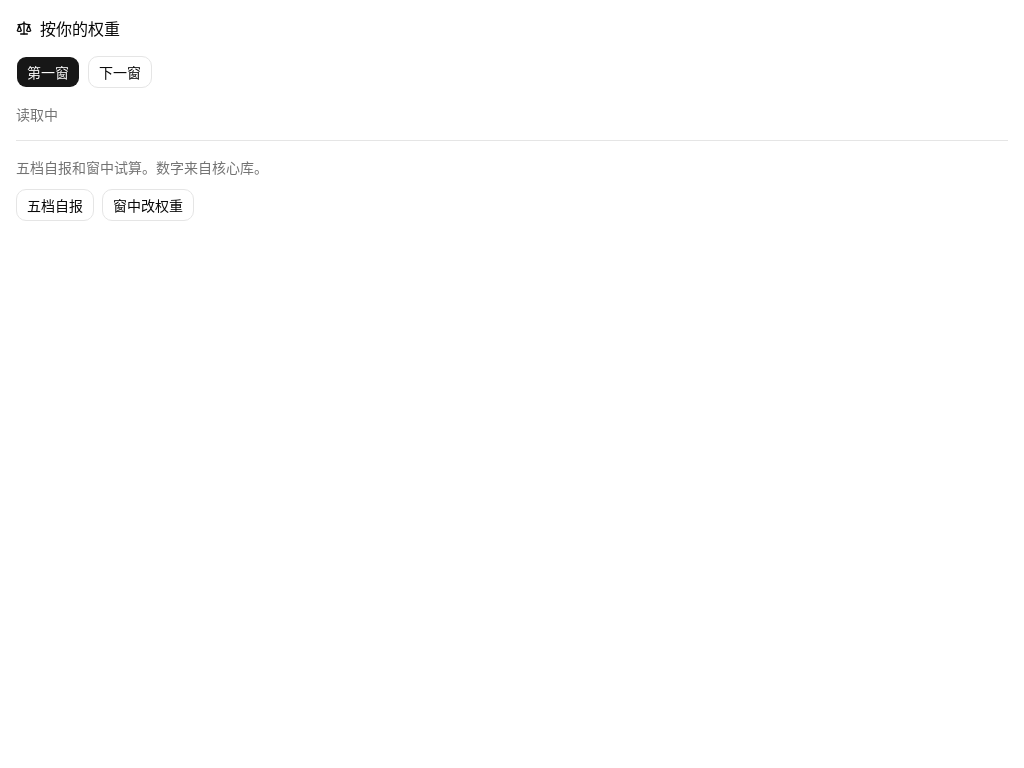
a contradiction is the shell's flag and question list
The image size is (1024, 768).
Click the button "五档自报" at (55, 205), box [16,189,94,221]
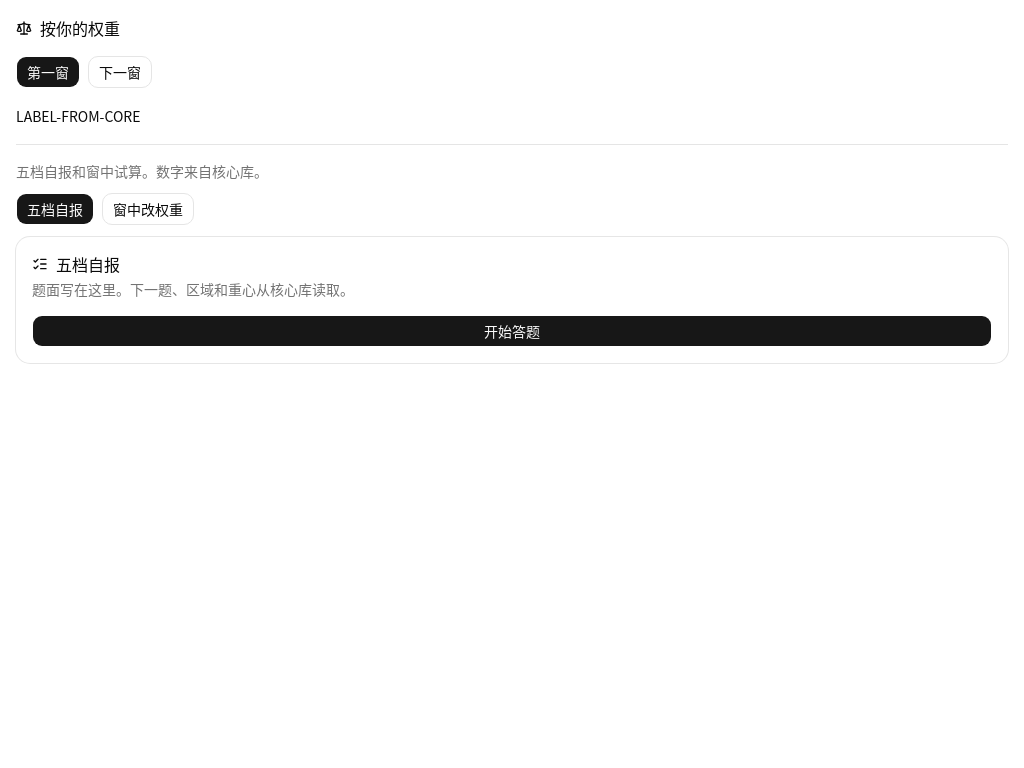
Click the button "开始答题" at (512, 331), box [32,315,992,347]
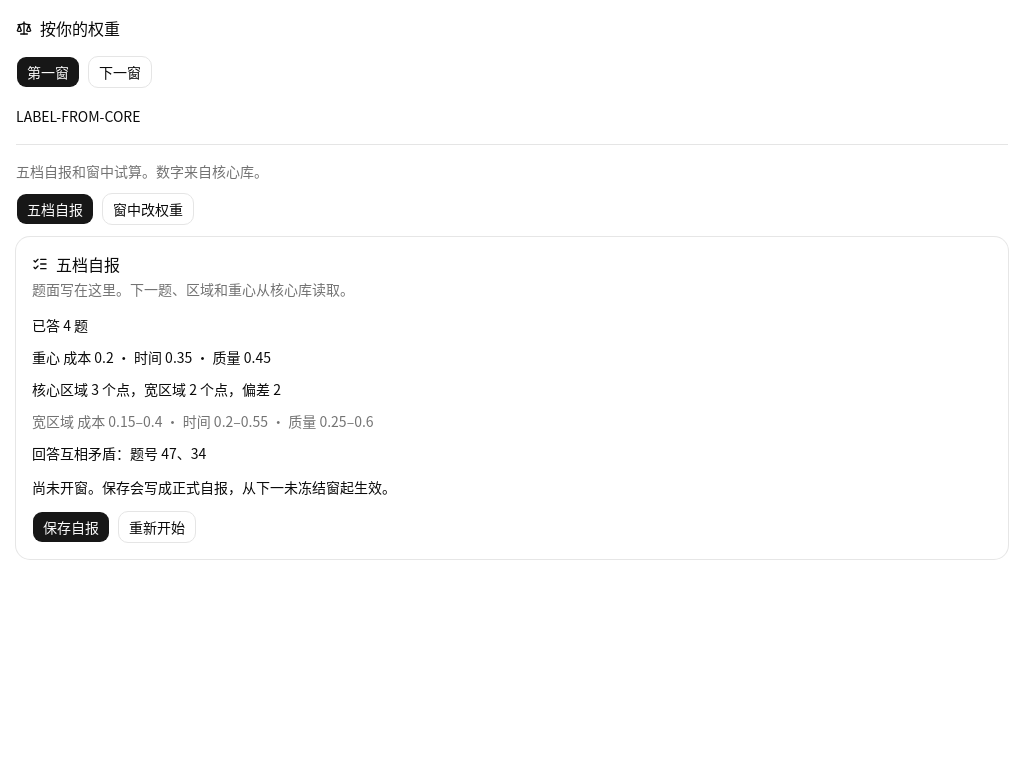
Now the text "回答互相矛盾：题号 47、34" is shown, box [32,443,206,463]
Now the text "尚未开窗。保存会写成正式自报，从下一未冻结窗起生效。" is shown, box [32,477,396,497]
